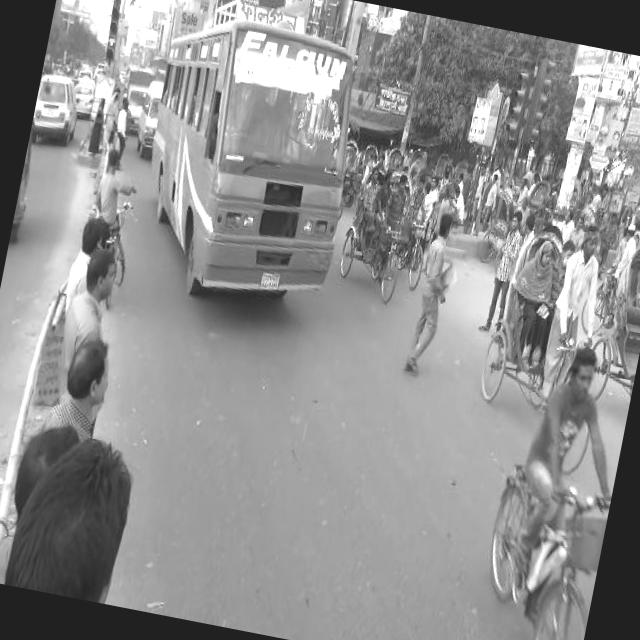bus: (117, 0, 380, 327)
car: (70, 79, 98, 118)
motorcycle: (460, 201, 636, 484), (329, 155, 421, 313), (579, 233, 640, 408), (371, 164, 443, 294), (474, 182, 518, 275), (428, 149, 456, 200), (523, 175, 553, 212), (382, 142, 407, 176), (405, 144, 427, 173), (454, 156, 470, 176)
truck: (29, 64, 88, 150), (110, 61, 156, 142)
